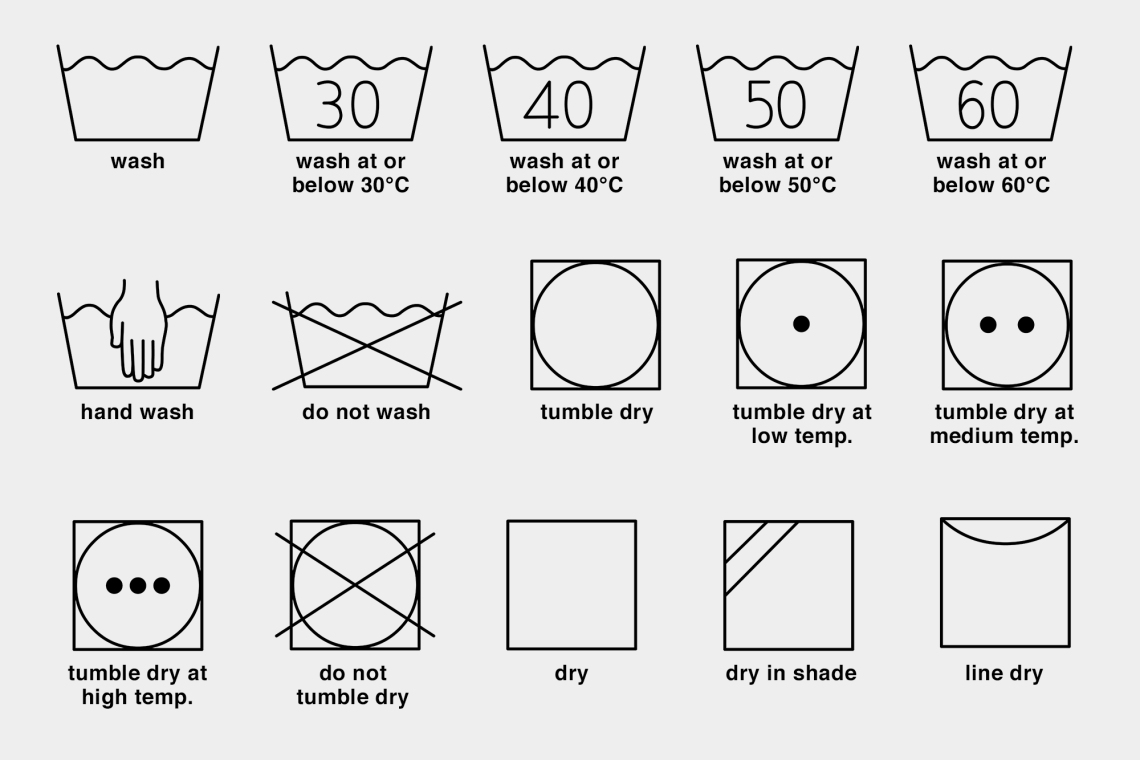do_not_wash: (263, 271, 472, 400)
